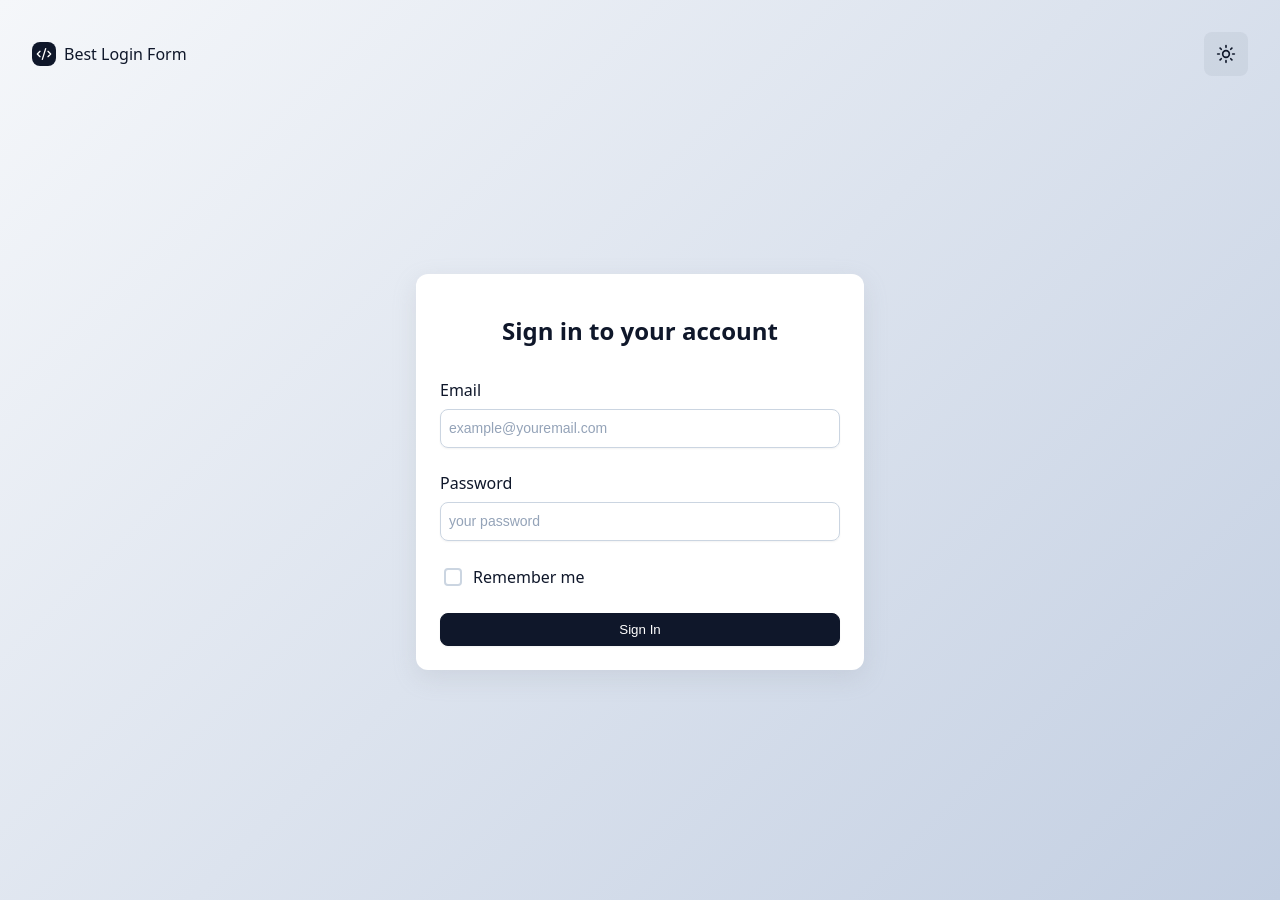
LoginPage › displays loading state during form submission
This screenshot has width=1280, height=900.
Type "test@example.com" into the field labelled "Email" at (640,429), box [440, 409, 840, 448]
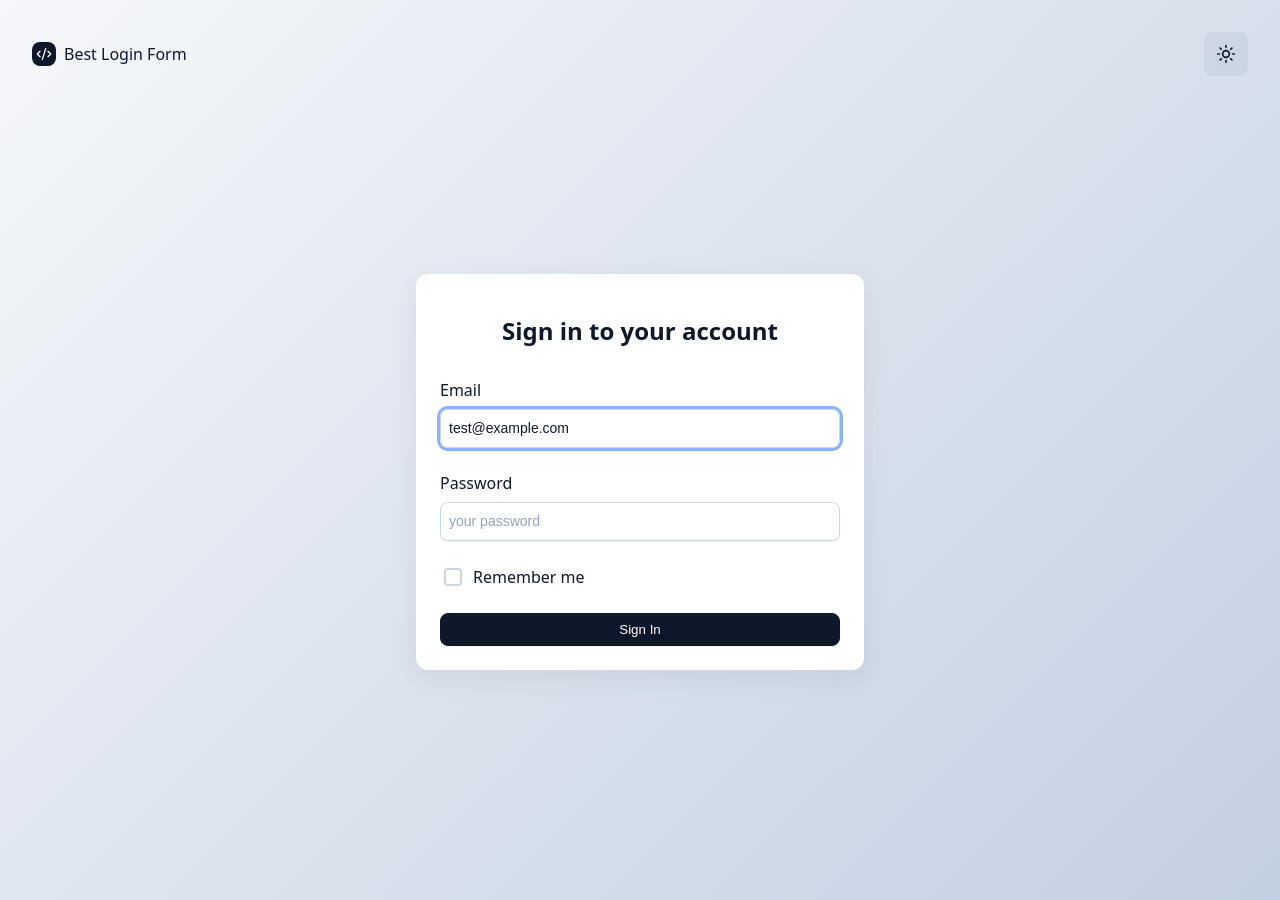
Type "1234" into the password field labelled "Password" at (640,522), box [440, 502, 840, 541]
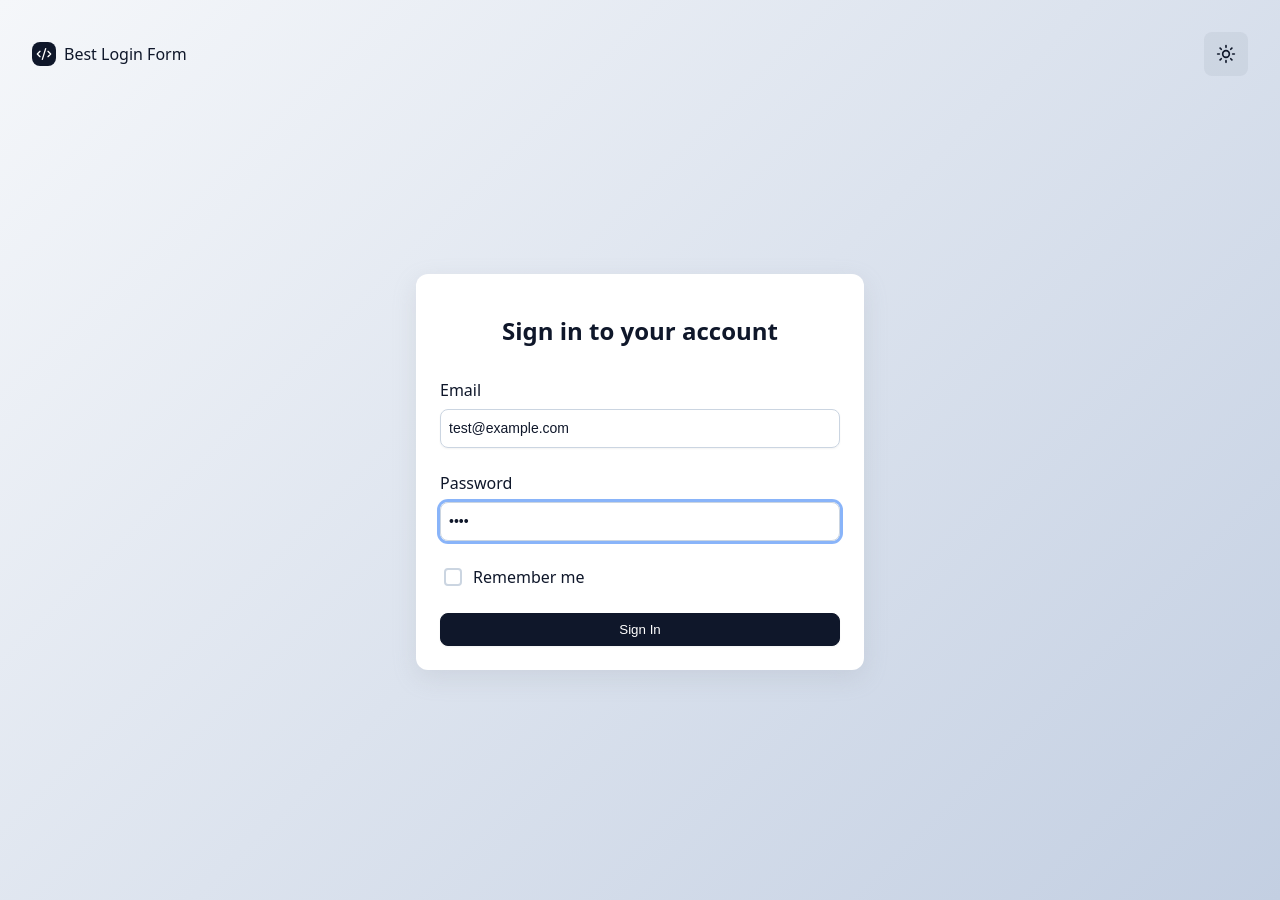
Click the button "Sign In" at (640,630), box [440, 613, 840, 646]
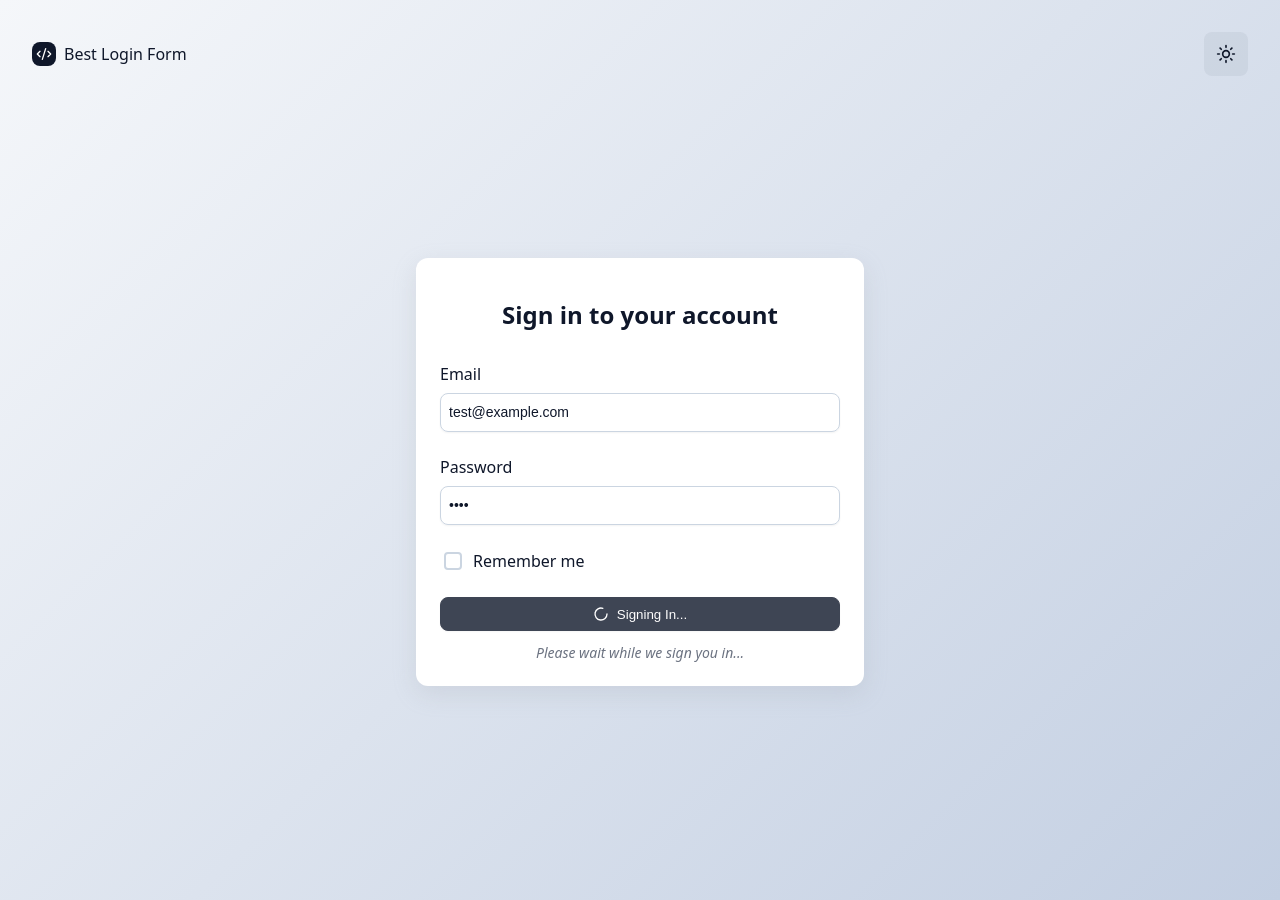
Result: the text "Signing In..." is shown at [617, 607, 687, 622]
Result: the text "Please wait while we sign you in..." is shown at [536, 643, 744, 662]
Result: the button named "Sign In" is disabled at [440, 597, 840, 631]
